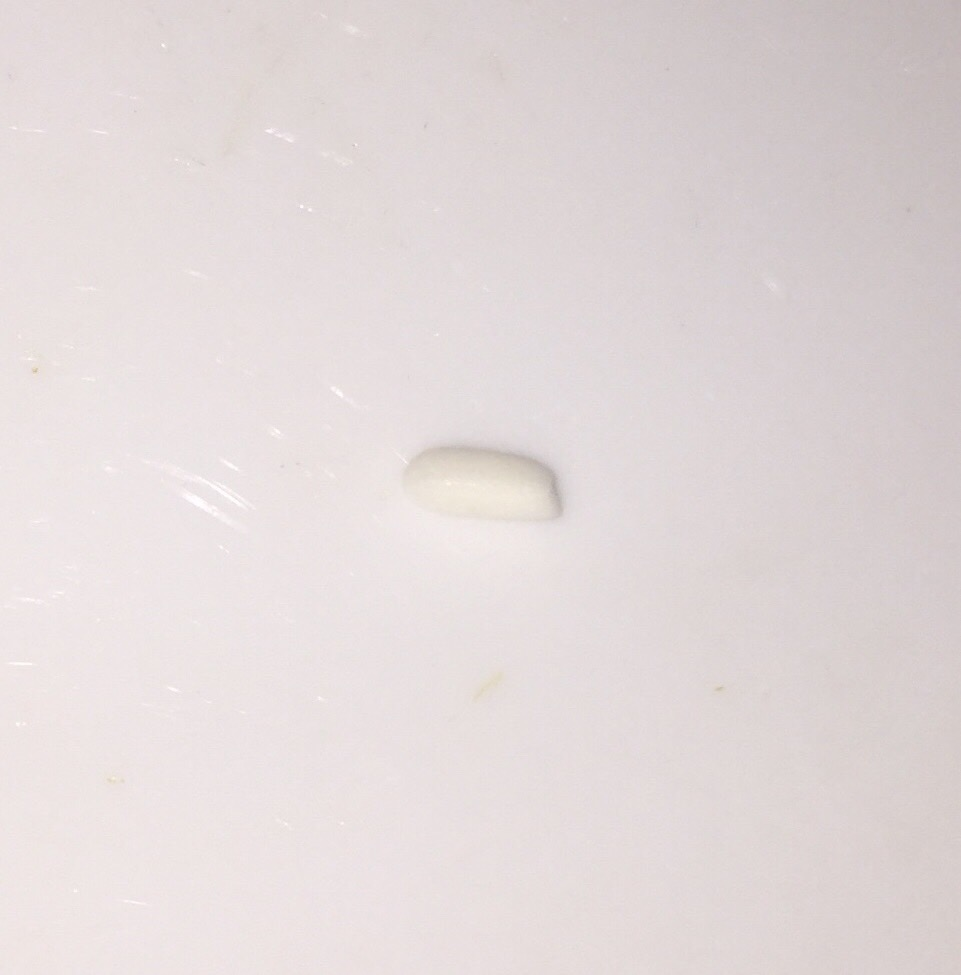Gao Nep Sap: (408, 434, 565, 537)
